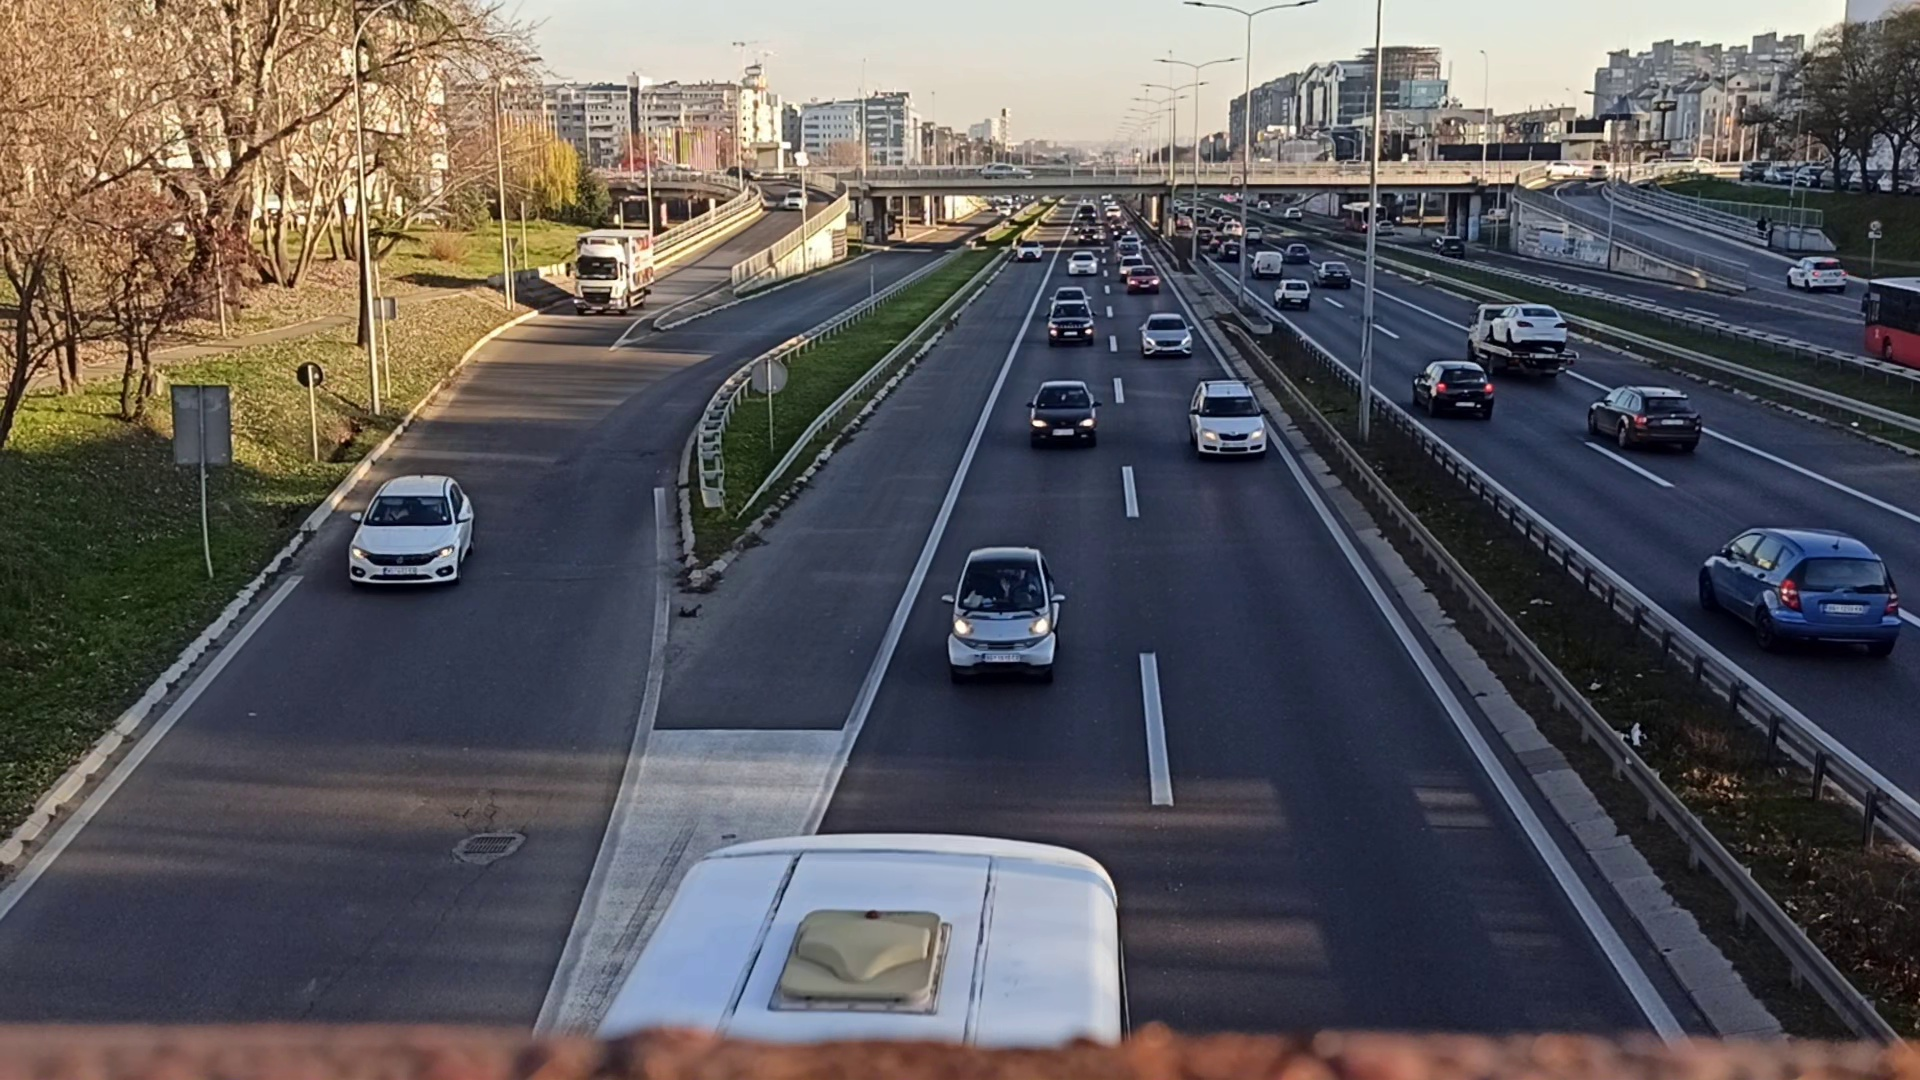car: (1700, 521, 1907, 659), (345, 469, 469, 599), (947, 549, 1065, 673), (1584, 378, 1700, 452), (1182, 382, 1273, 463), (1415, 359, 1491, 419), (1030, 378, 1098, 443), (1495, 299, 1571, 349), (1138, 309, 1192, 363), (1044, 305, 1095, 348), (1274, 278, 1311, 309)
truck: (574, 229, 651, 314)
